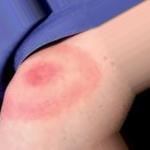Tick: (0, 46, 99, 118)
